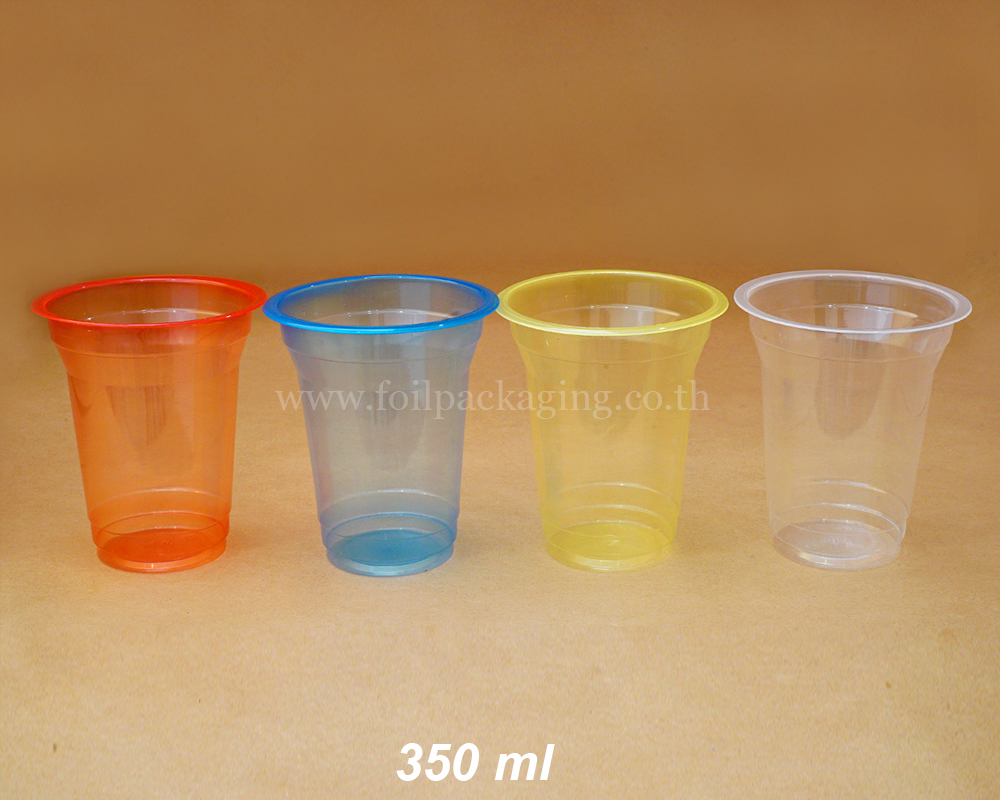plastic_glass: (729, 252, 973, 584), (489, 261, 734, 580), (259, 266, 503, 583), (29, 270, 278, 579)
